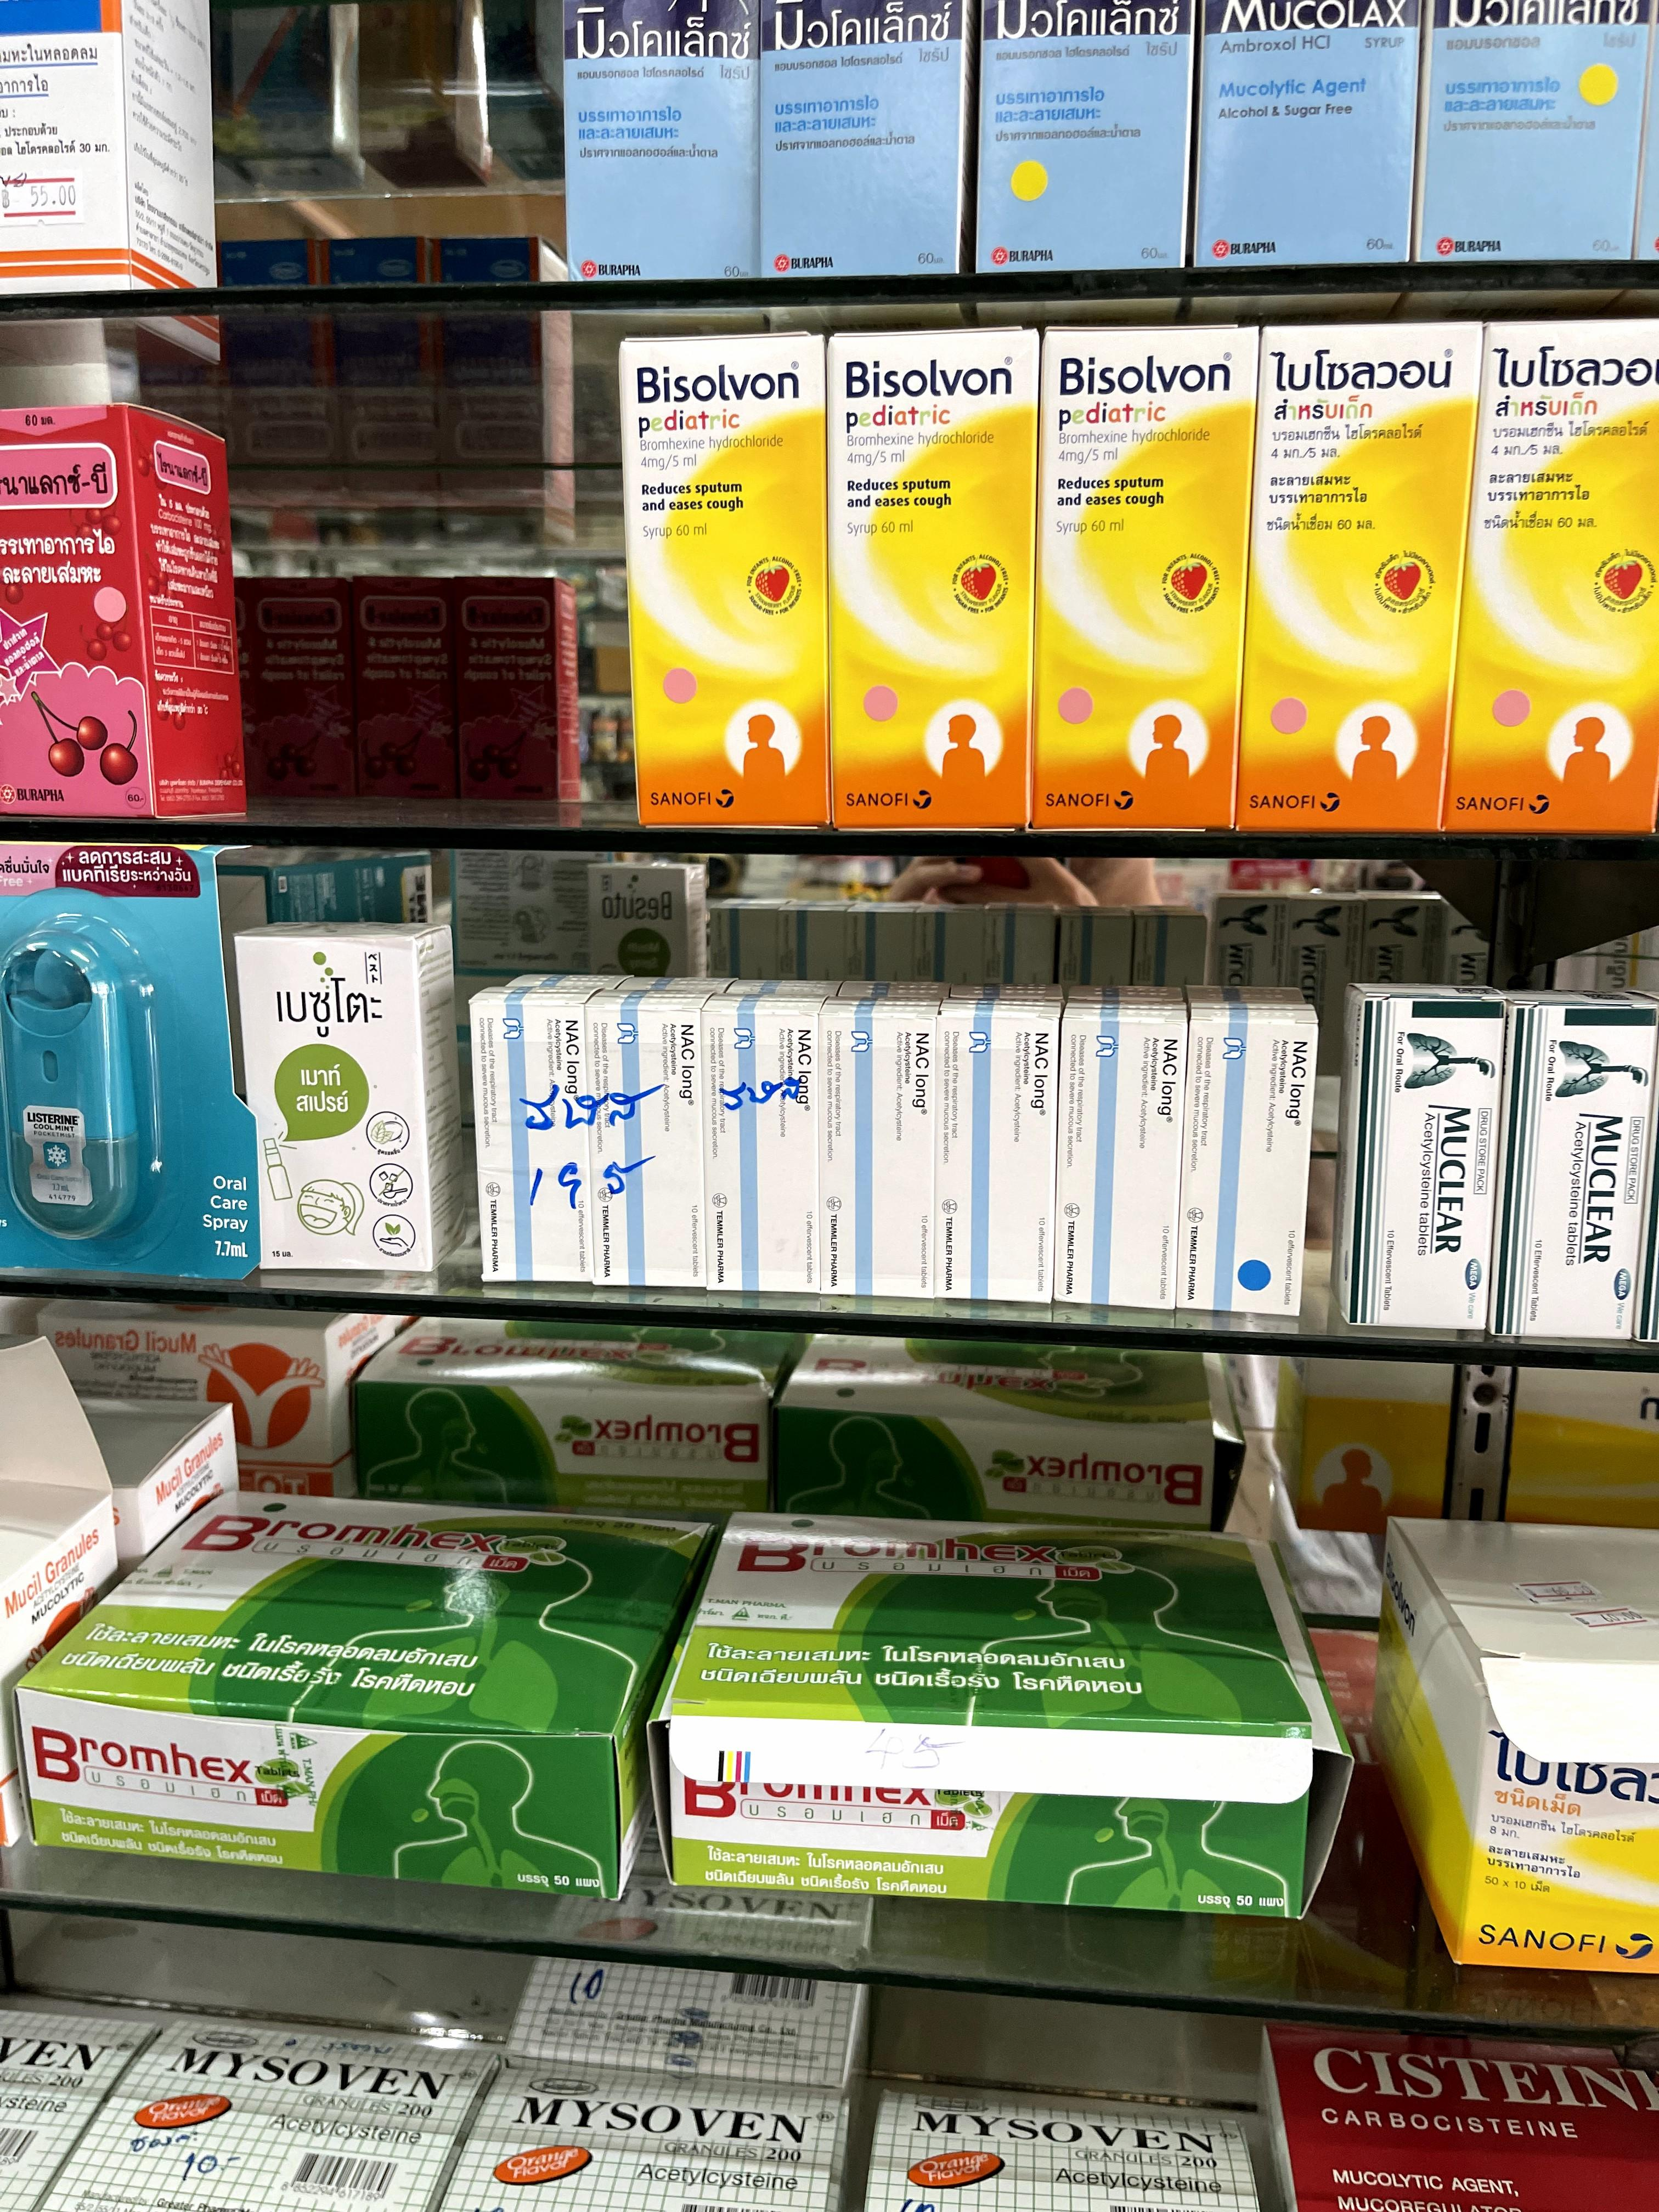Cisteine_Box: (1270, 2022, 1659, 2212)
Muclear: (1504, 988, 1659, 1336), (1347, 984, 1500, 1334)
Nac-Long: (1185, 1001, 1316, 1312), (1054, 1000, 1183, 1306), (701, 993, 823, 1289), (821, 993, 938, 1301), (476, 986, 596, 1284), (591, 984, 709, 1285), (943, 996, 1058, 1301)
Rhinalax-B: (0, 401, 254, 820)
